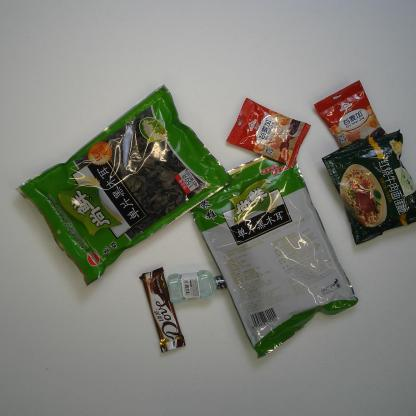Chocolate: (139, 266, 185, 354)
Dried Food: (13, 84, 234, 288), (189, 156, 359, 361)
Instant Drink: (226, 97, 312, 169), (313, 79, 387, 149)
Instant Noodles: (320, 128, 416, 246)
Personal Hygiene: (167, 270, 228, 304)
